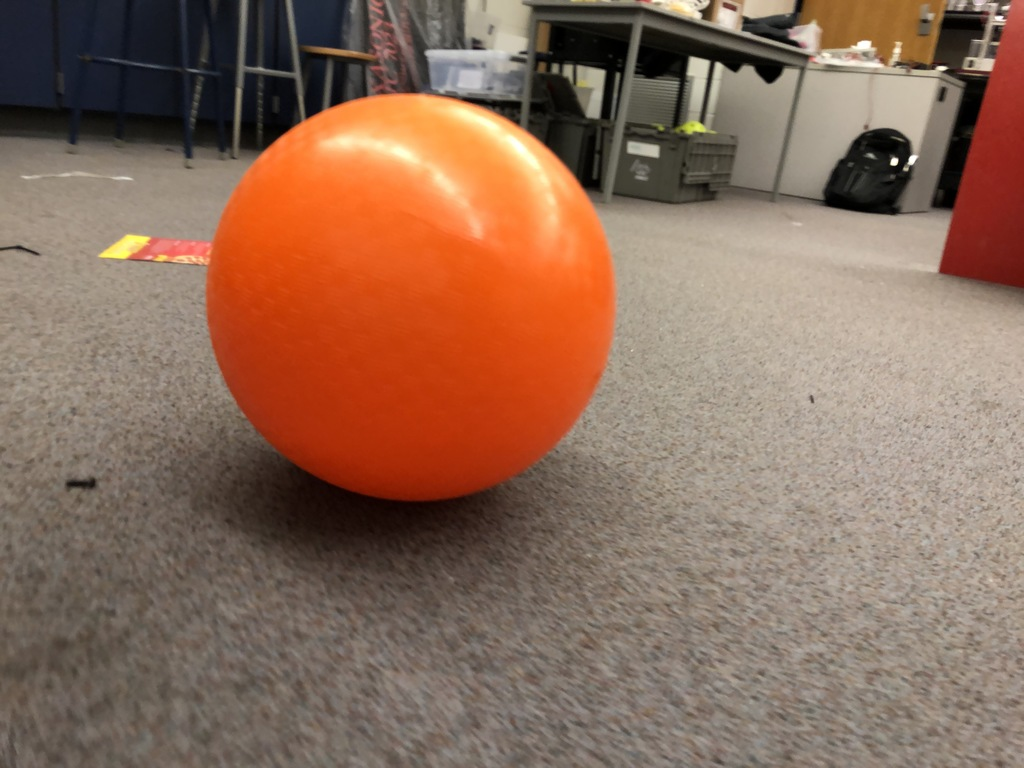cargo: (192, 75, 652, 534)
